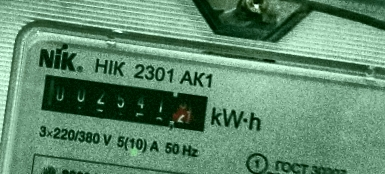0: (52, 80, 68, 103), (73, 81, 88, 104)
1: (153, 91, 168, 115)
2: (93, 83, 110, 107)
4: (134, 88, 148, 110)
5: (113, 86, 129, 110)
6: (174, 110, 187, 123)
screen: (27, 61, 222, 141)
